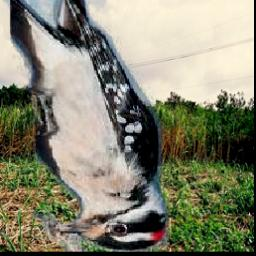Woodpecker: (10, 0, 169, 252)
